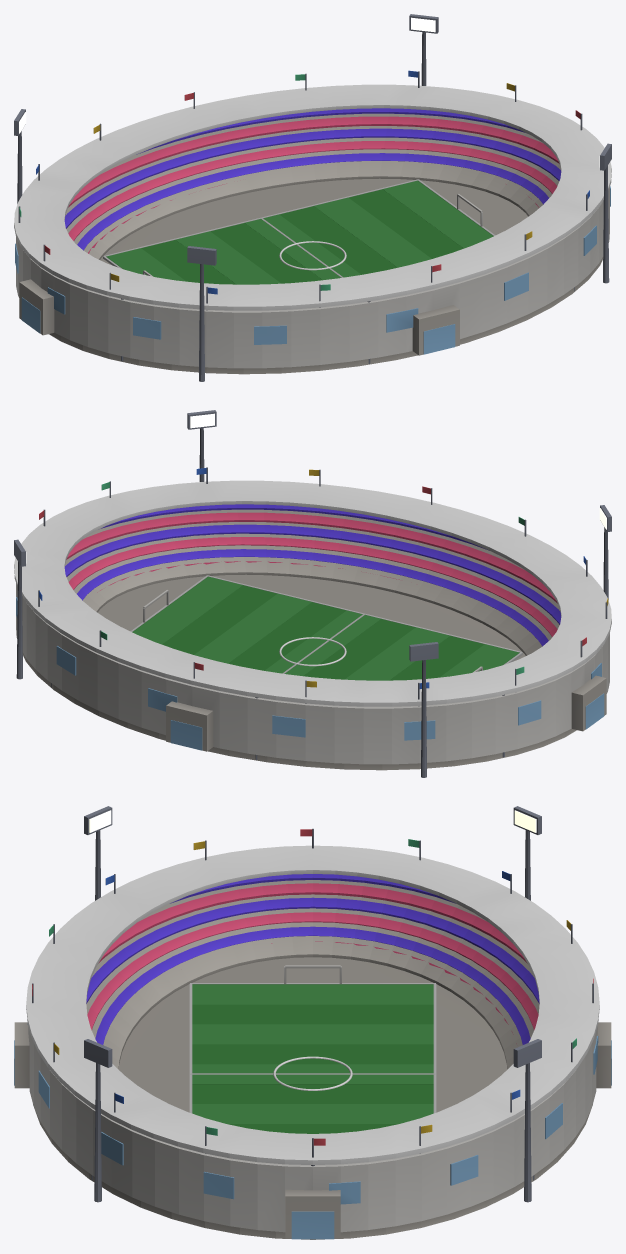
The model's file is bl_stadium.glb.
The picture shows the model from 3 angles, top to bottom: view 1: azimuth 30°, elevation 25°; view 2: azimuth 150°, elevation 25°; view 3: azimuth 270°, elevation 25°; orthographic projection. The views are drawn at different scales.
Visible parts, largest first — view 1: Stadium; view 2: Stadium; view 3: Stadium.
Boxes of the visible parts, x1,y1,x2,y2 form: Stadium: (14,14,611,381); Stadium: (14,410,611,777); Stadium: (14,806,611,1239).
Bounding box in the file's own units: 35.95 × 8.05 × 27.95.
